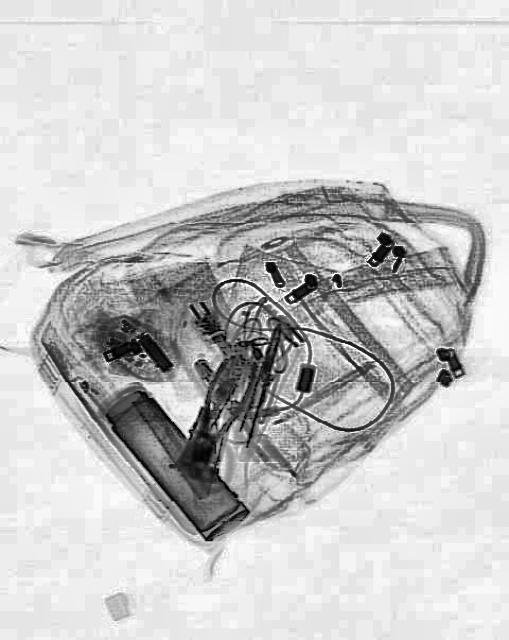Pliers: (176, 344, 264, 480)
